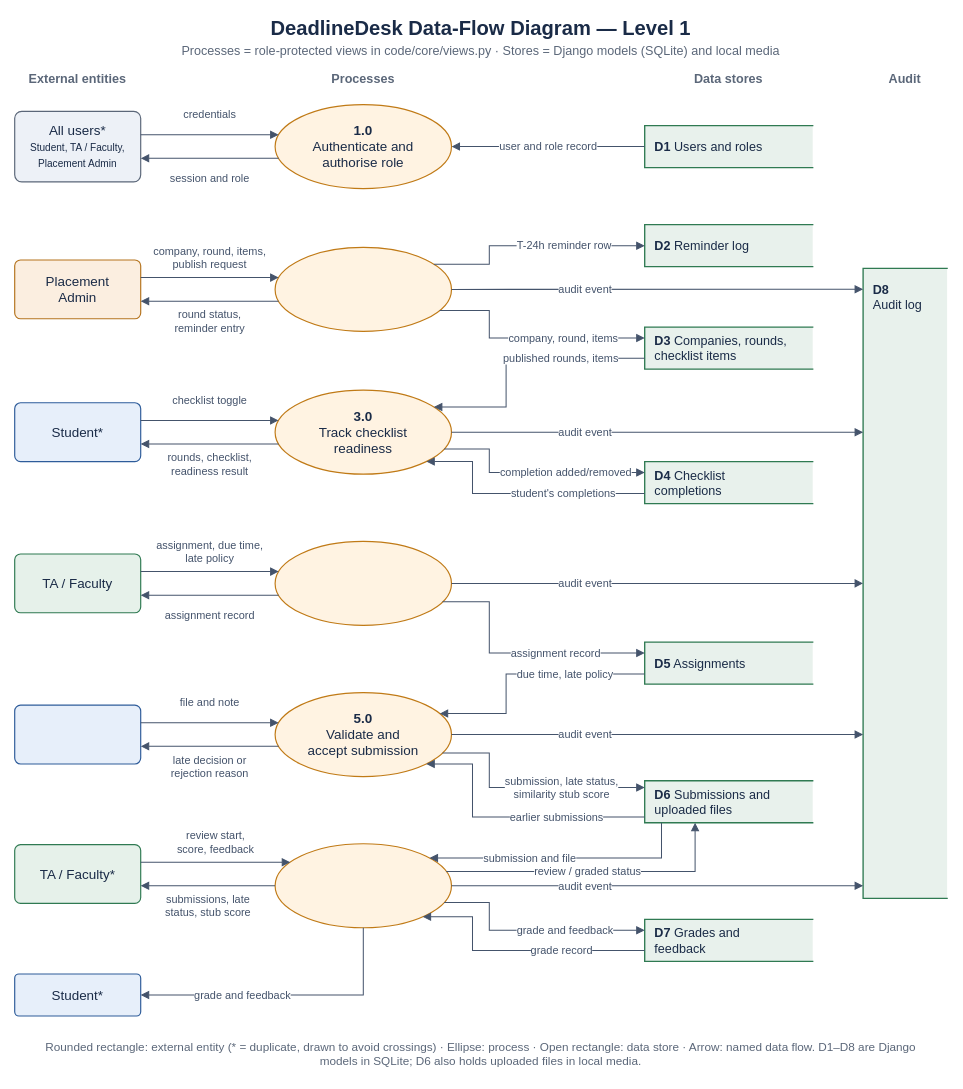
Image size: 963x1089. Some labels were removed from this diagram. Each missing label, with the centre of its shape:
2.0 Manage and publish placement rounds: point (363, 289)
4.0 Publish assignment and late policy: point (363, 583)
6.0 Review and grade submission: point (363, 885)
Student: point (77, 734)
